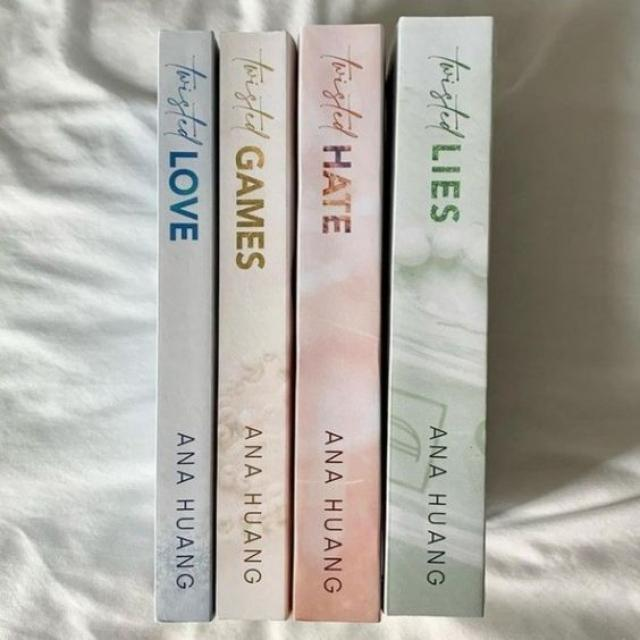book: (385, 17, 491, 616), (293, 25, 381, 621), (217, 32, 294, 618), (155, 31, 216, 621)
